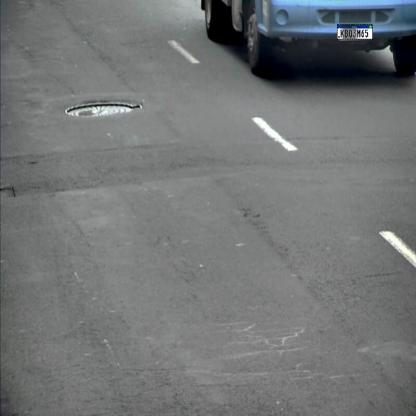PlacaM: (337, 24, 373, 40)
